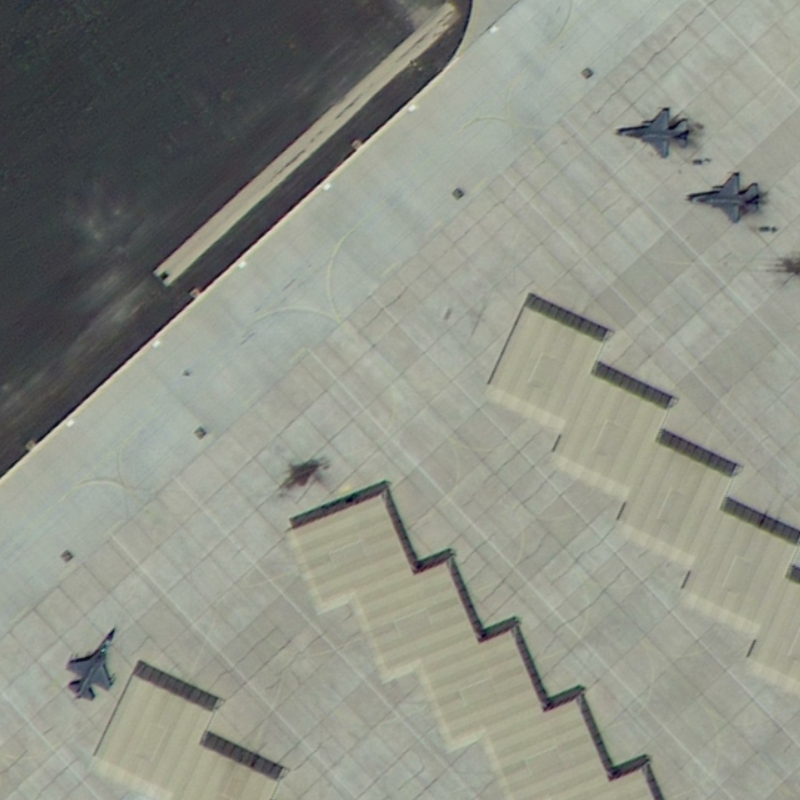A5: (684, 169, 767, 228), (62, 625, 120, 703), (613, 106, 694, 160)
